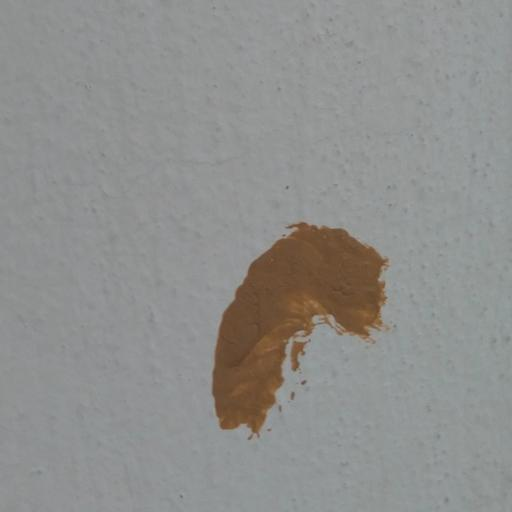stain: (185, 169, 401, 454)
